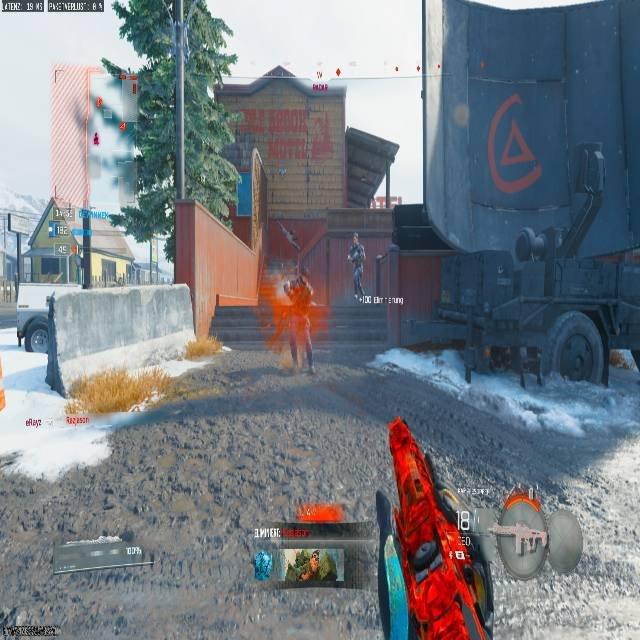head: (352, 237, 359, 247)
player: (271, 274, 312, 370), (348, 236, 364, 298)
